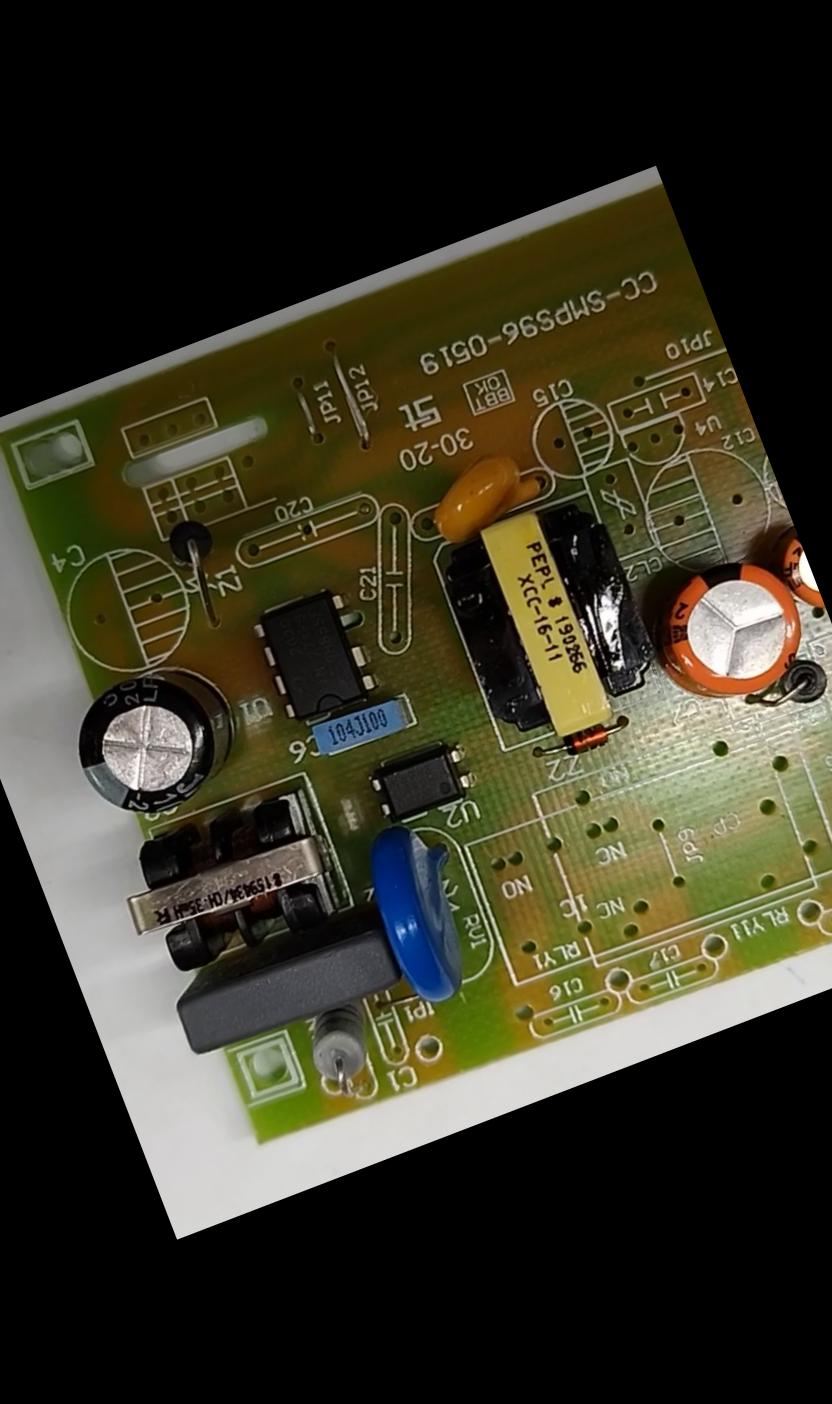Cap1: (637, 543, 822, 719)
Cap2: (769, 528, 826, 620)
Cap3: (58, 650, 253, 832)
MOSFET: (248, 586, 380, 725)
Mov: (354, 824, 491, 1011)
Resistor: (298, 1004, 388, 1098)
Transformer: (426, 480, 671, 758), (111, 784, 339, 978)
